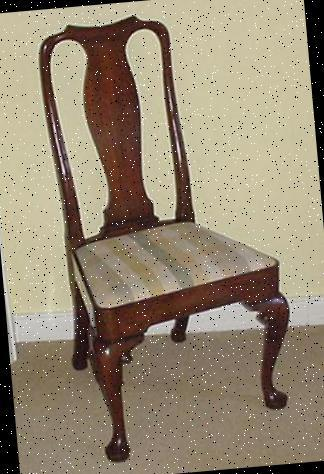Silla: (33, 1, 308, 469)
